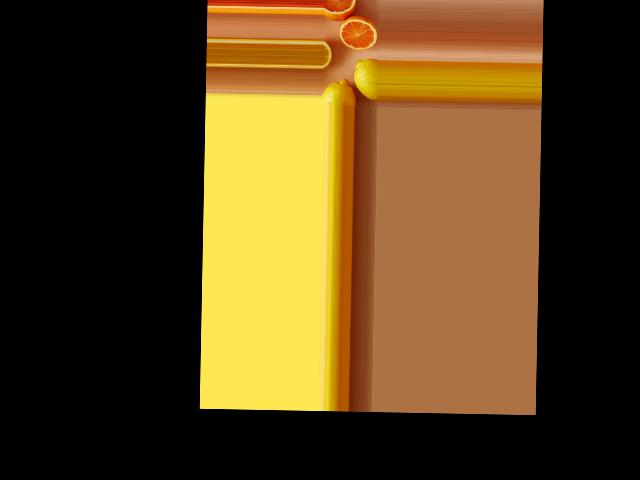lemon: (323, 75, 357, 106)
